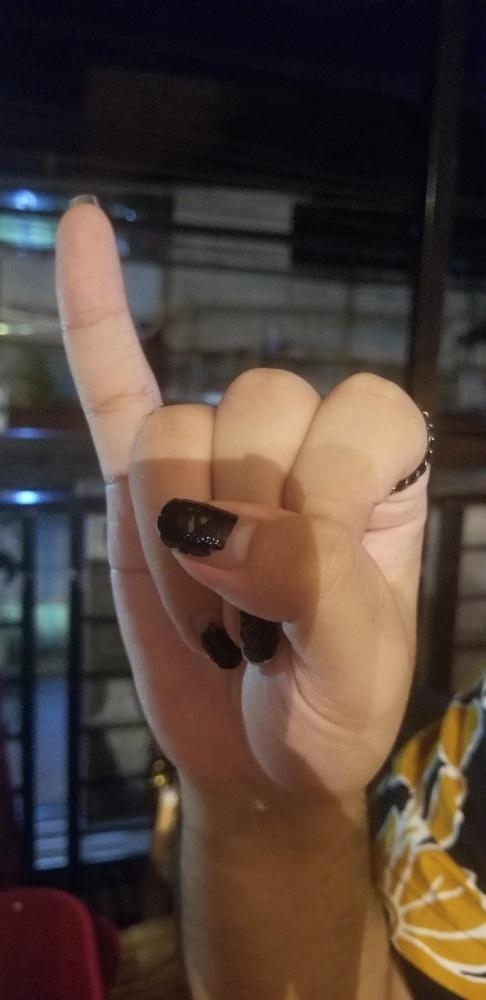i: (44, 195, 432, 806)
